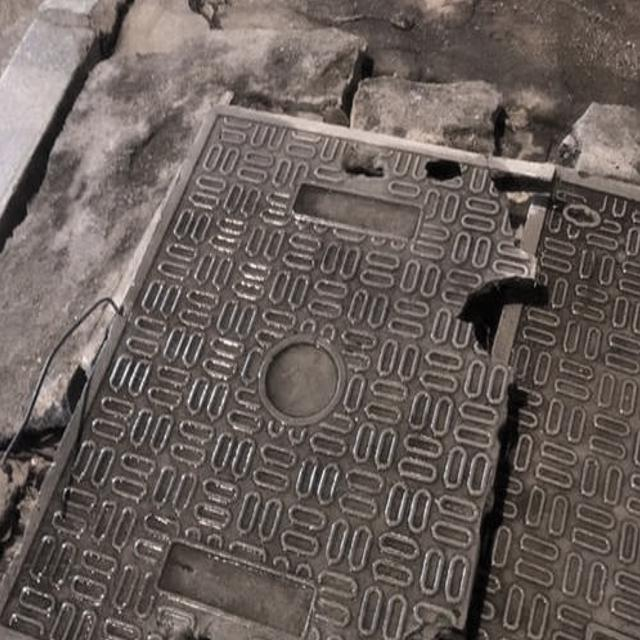broke: (15, 52, 629, 640)
